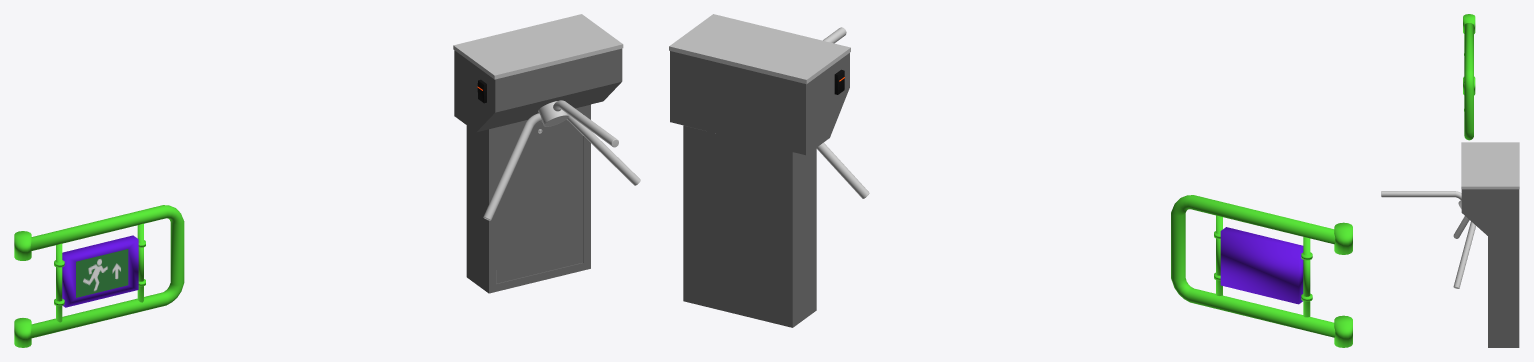
The model's file is Entrance.fbx.
3 views of the same model, side by side, from view 1: azimuth 30°, elevation 25°; view 2: azimuth 150°, elevation 25°; view 3: azimuth 270°, elevation 25° (orthographic). The views are drawn at different scales.
Parts seen in each view (by area): view 1: Arm Base Cyl, ExitDoor; view 2: Arm Base Cyl, ExitDoor; view 3: Arm Base Cyl, ExitDoor.
Part boxes in pixels (<box>): Arm Base Cyl: <box>453,14,640,293</box>; ExitDoor: <box>14,205,184,347</box>; Arm Base Cyl: <box>669,14,869,327</box>; ExitDoor: <box>1171,195,1352,347</box>; Arm Base Cyl: <box>1381,142,1519,347</box>; ExitDoor: <box>1463,14,1475,140</box>.
Bounding box in the file's own units: 296 × 108 × 81.63.
